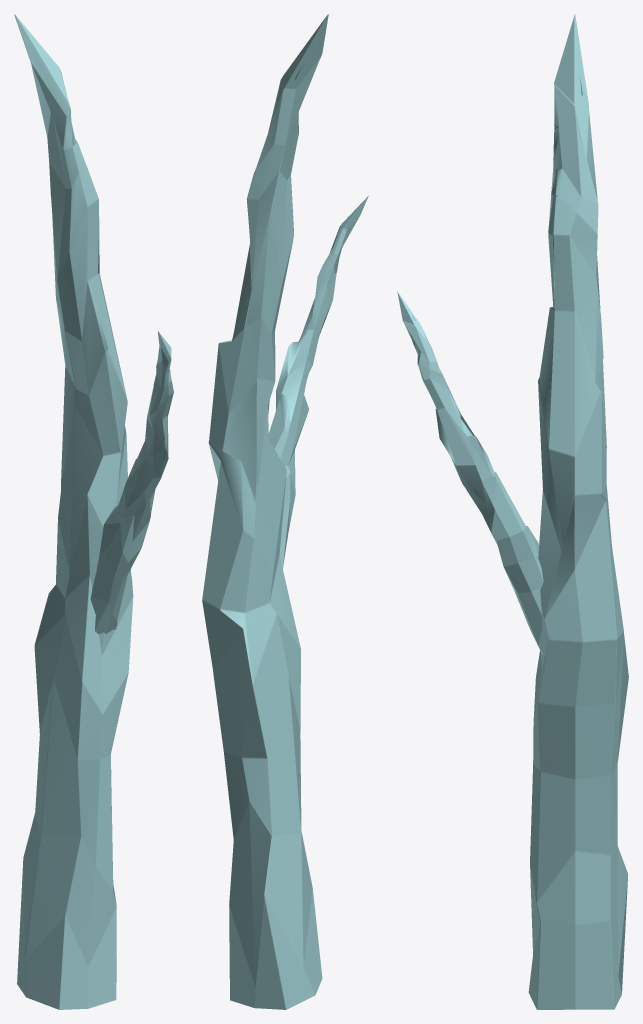
The model's file is IceTree_Branch_03.fbx.
3 renders of one model, left to right at view 1: azimuth 30°, elevation 25°; view 2: azimuth 150°, elevation 25°; view 3: azimuth 270°, elevation 25°, orthographic. The views are drawn at different scales.
Visible parts, largest first — view 1: Branch_03; view 2: Branch_03; view 3: Branch_03.
Boxes of the visible parts, <box> form: Branch_03: <box>14,14,173,1009</box>; Branch_03: <box>202,14,368,1009</box>; Branch_03: <box>397,14,628,1009</box>.
Bounding box in the file's own units: 27.22 × 230 × 50.4.
